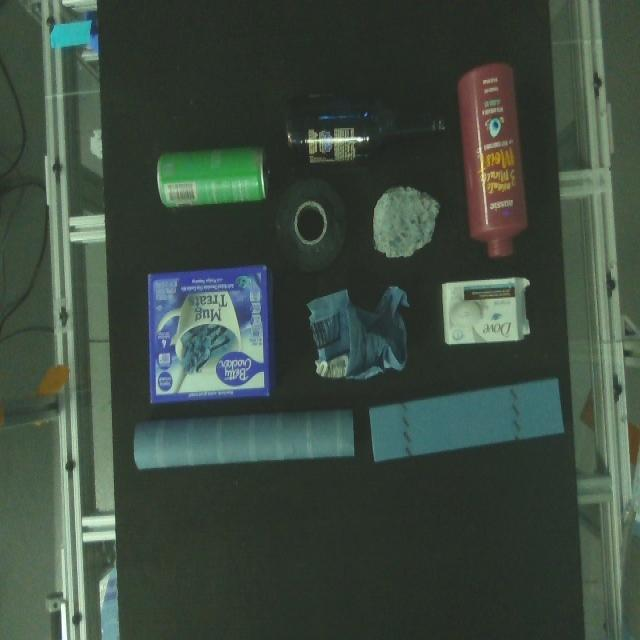non-paper: (447, 68, 537, 259), (274, 96, 460, 177), (153, 142, 272, 213), (274, 184, 353, 274), (371, 181, 444, 262)
paper: (361, 375, 572, 485), (140, 263, 276, 409), (125, 411, 358, 468), (304, 281, 414, 383), (439, 276, 535, 351)
